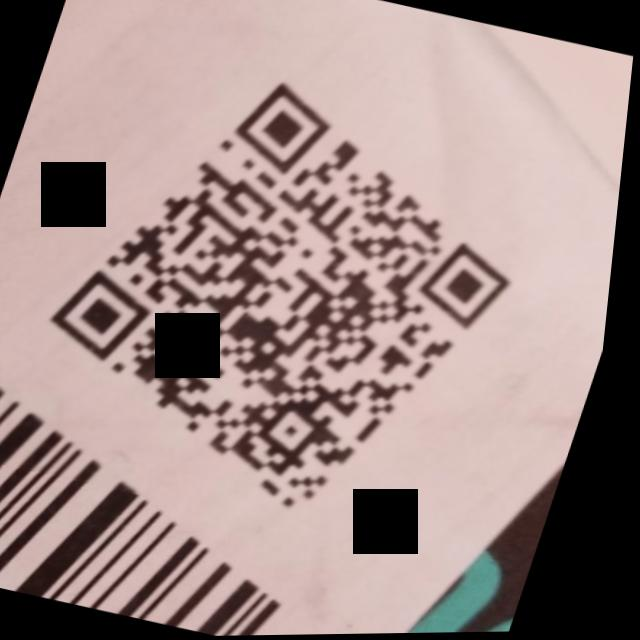QR_CODE: (0, 16, 606, 570)
